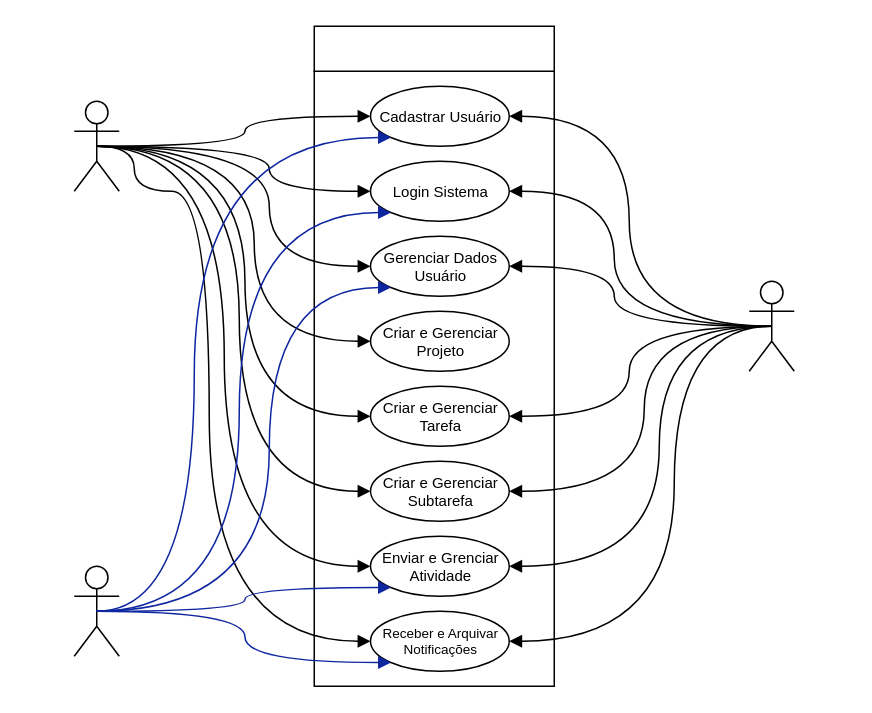
The diagram is 872 pixels wide and 713 high, and some of its shapes have lost their labels. The centre of each missing label's shape, as x and y in pixels:
Adminsitrador de Projeto: point (771, 325)
Gerenciamento de Tarefas e Projetos: point (433, 48)
Gestor de Projeto: point (96, 145)
Membro de Projeto: point (96, 610)
